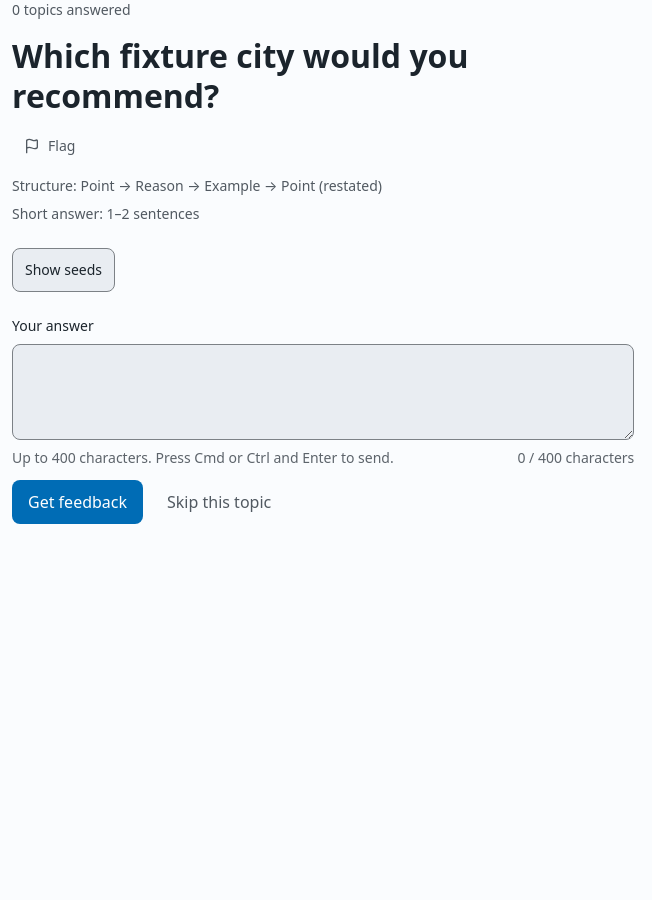
Scenario: the drill page's client leaf › clears the save confirmation when the rewrite is edited
Type "I recommend Kyoto because its old temples are beautiful." into the text box labelled "Your answer" at (323, 392), box [12,344,634,440]
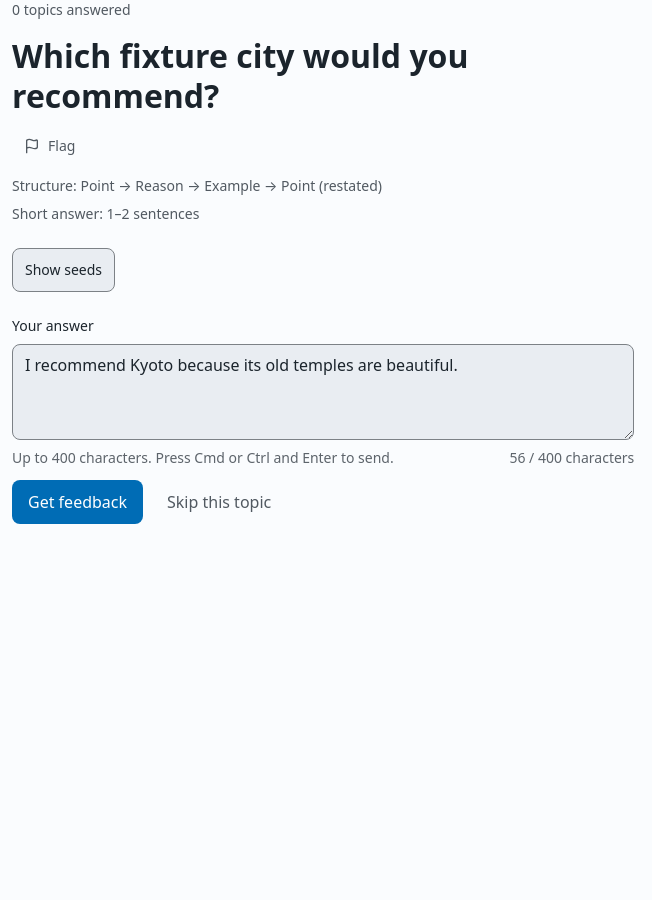
Click the button "Get feedback" at (78, 502), box [12,480,143,524]
(page scrolled)
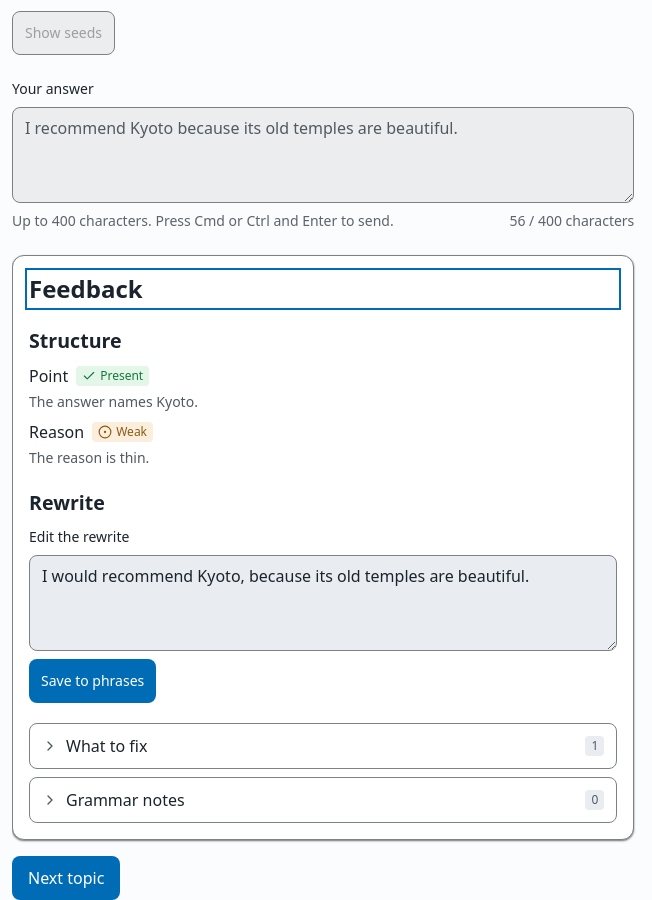
expect the text box "I would recommend Kyoto, because its old temples are beautiful." is shown: met, box [29,555,617,651]
Click the button "Save to phrases" at (93, 681), box [29,659,156,703]
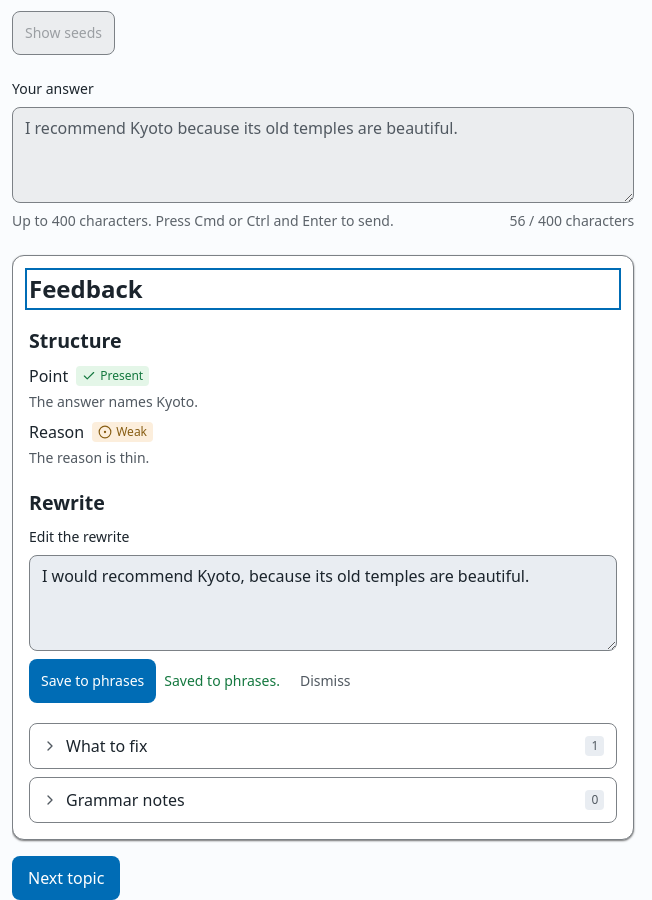
expect the text "Saved to phrases." is shown: met, box [164,671,280,690]
Replace the text in the text box labelled "Edit the rewrite" with "A newly edited rewrite." at (323, 603), box [29,555,617,651]
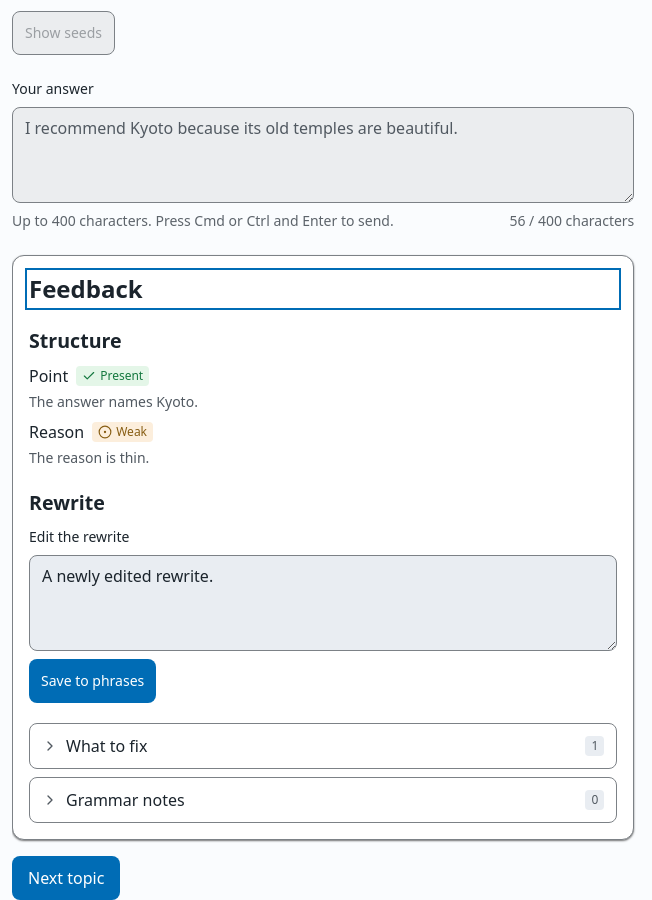
expect the text "Saved to phrases." is gone: met
